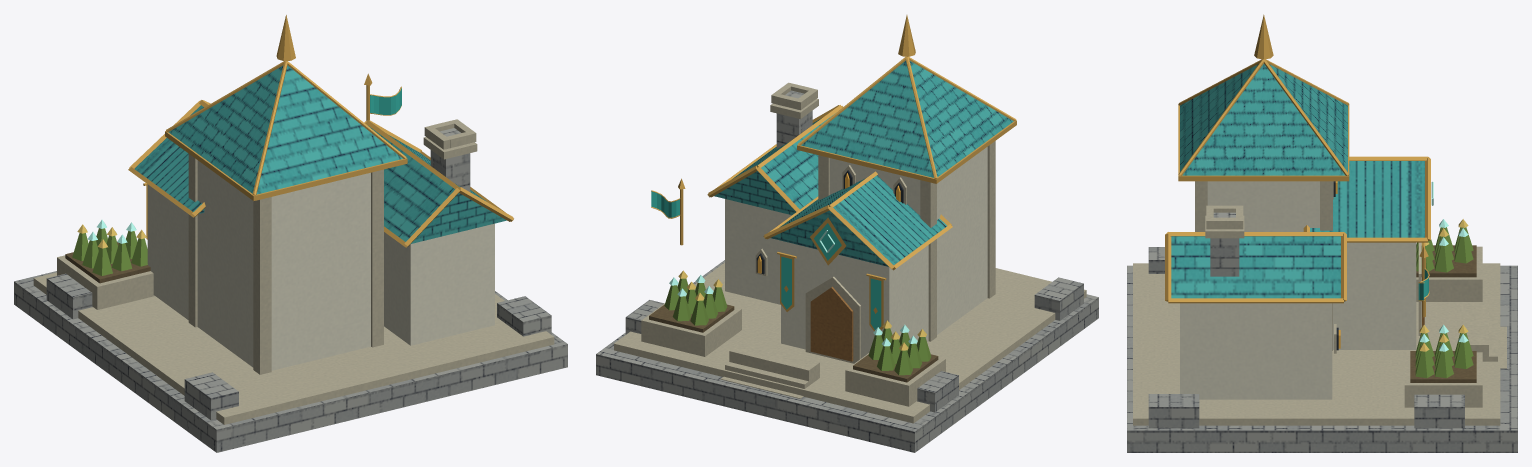
The model's file is Hospital_1.fbx.
3 renders of one model, left to right at view 1: azimuth 30°, elevation 25°; view 2: azimuth 150°, elevation 25°; view 3: azimuth 270°, elevation 25°, orthographic. The views are drawn at different scales.
Visible parts, largest first — view 1: BuildingBody, FlagCloth_00; view 2: BuildingBody, FlagCloth_00; view 3: BuildingBody.
Boxes of the visible parts, x1,y1,x2,y2 form: BuildingBody: (14, 15, 567, 452); FlagCloth_00: (370, 86, 401, 115); BuildingBody: (596, 15, 1098, 452); FlagCloth_00: (651, 190, 680, 218); BuildingBody: (1127, 14, 1517, 452).
Bounding box in the file's own units: 1 × 0.96 × 1.
Materials: 1 (1 with a texture image).
